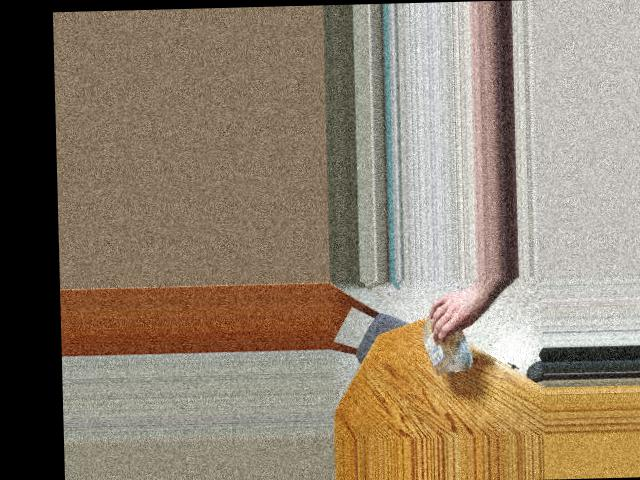cheese: (420, 314, 469, 371)
